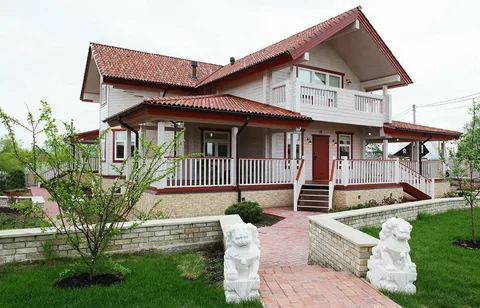private_hause: (86, 39, 435, 200)
